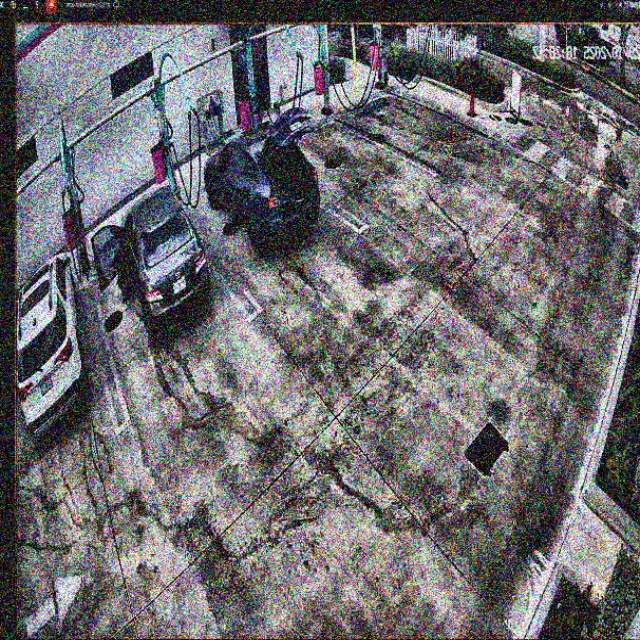Car: (95, 190, 209, 339), (204, 108, 315, 243)
